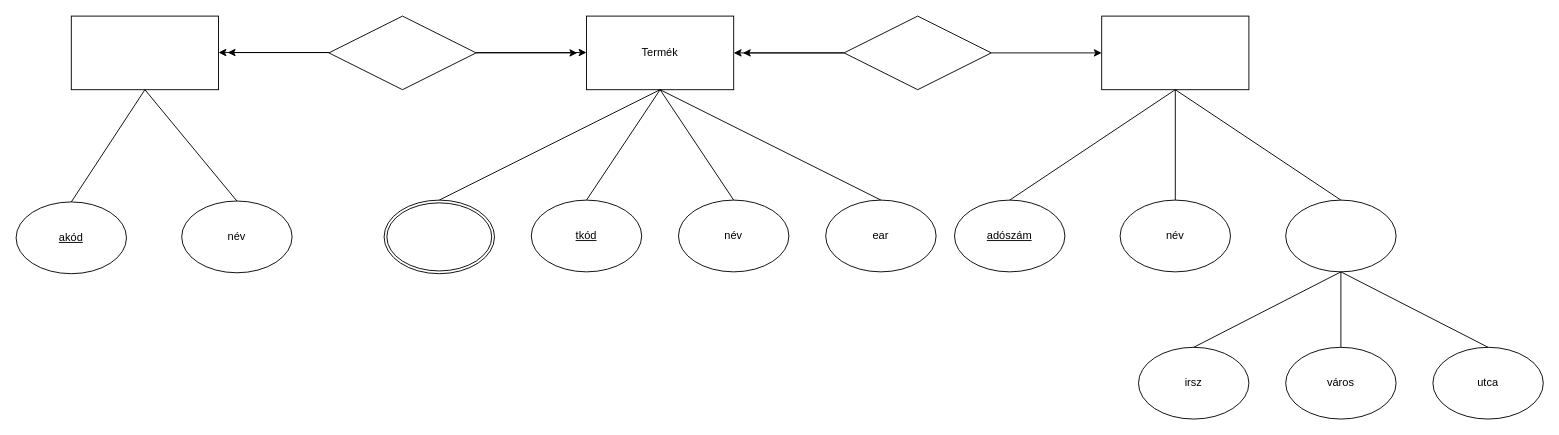
Some shapes in this 1559 by 435 pixel diagram are drawn without their labels. The centre of each missing label's shape, as x and y in pixels:
"Alkatrész" goes at (144,52).
"AT" goes at (402,52).
"egység_db" goes at (438,236).
"Gyártó" goes at (1175,52).
"telephely" goes at (1340,235).
"TGY" goes at (917,52).
